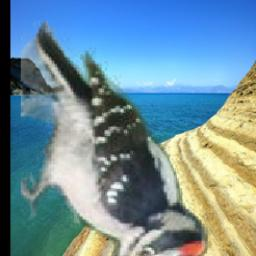Woodpecker: (21, 21, 212, 256)
